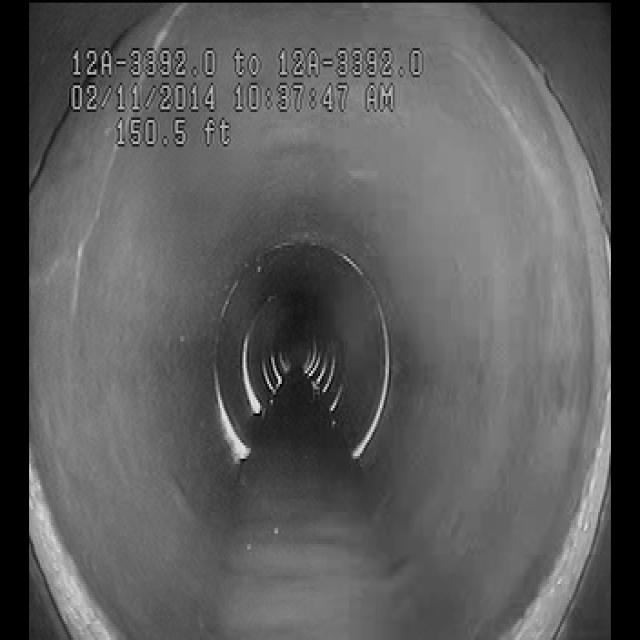Crack: (50, 159, 124, 335)
